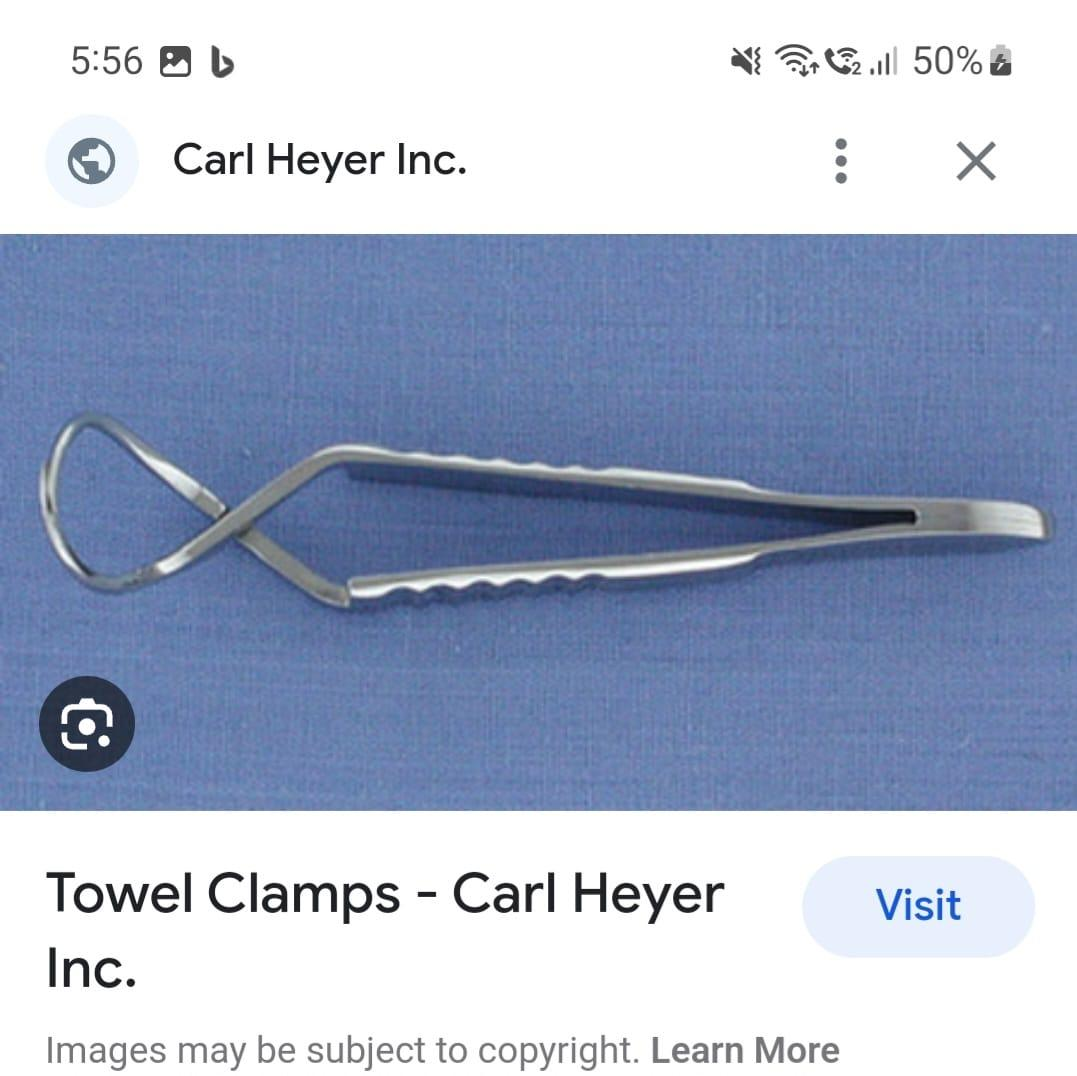Jones Towel Clamp: (28, 397, 1052, 608)
